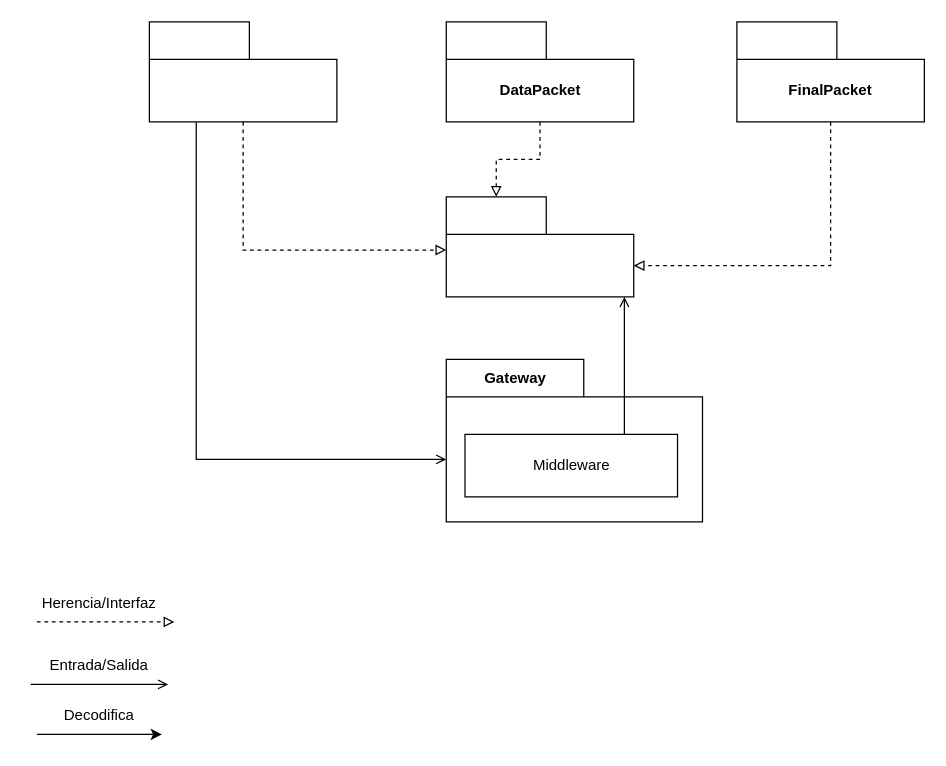
The diagram is 946 pixels wide and 766 high, and some of its shapes have lost their labels. The box of each missing label's shape, as (x1, y1, x2, y2) in pixels:
Packet: (445, 196, 634, 297)
QueryPacket: (148, 21, 337, 122)
